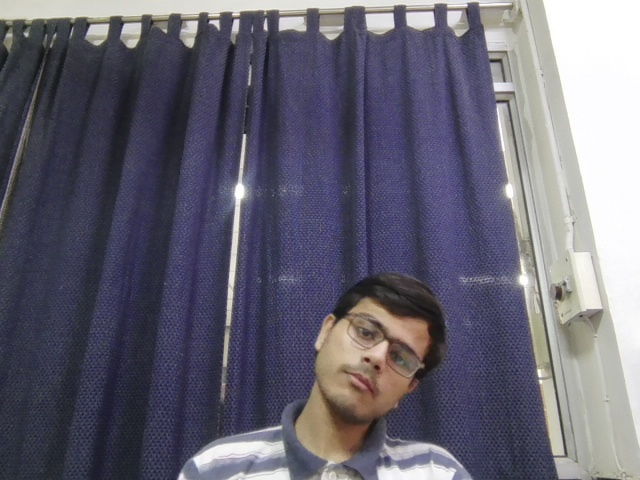face: (313, 272, 442, 421)
